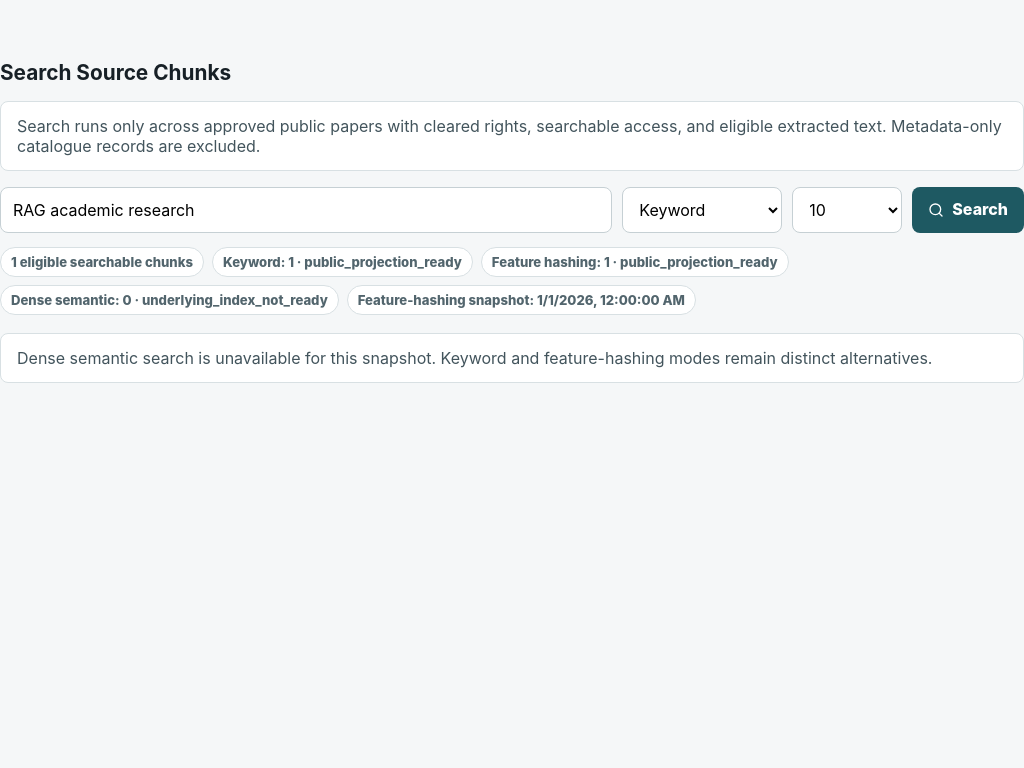
Test: evidence and responsible-AI interfaces › ignores an older Search response that completes after a newer request
Expected: the form named "Search source chunks" is shown, [0, 187, 1023, 233]
Replace the text in the field named "Search source chunks" with "older query" at (306, 210), box [0, 187, 612, 233]
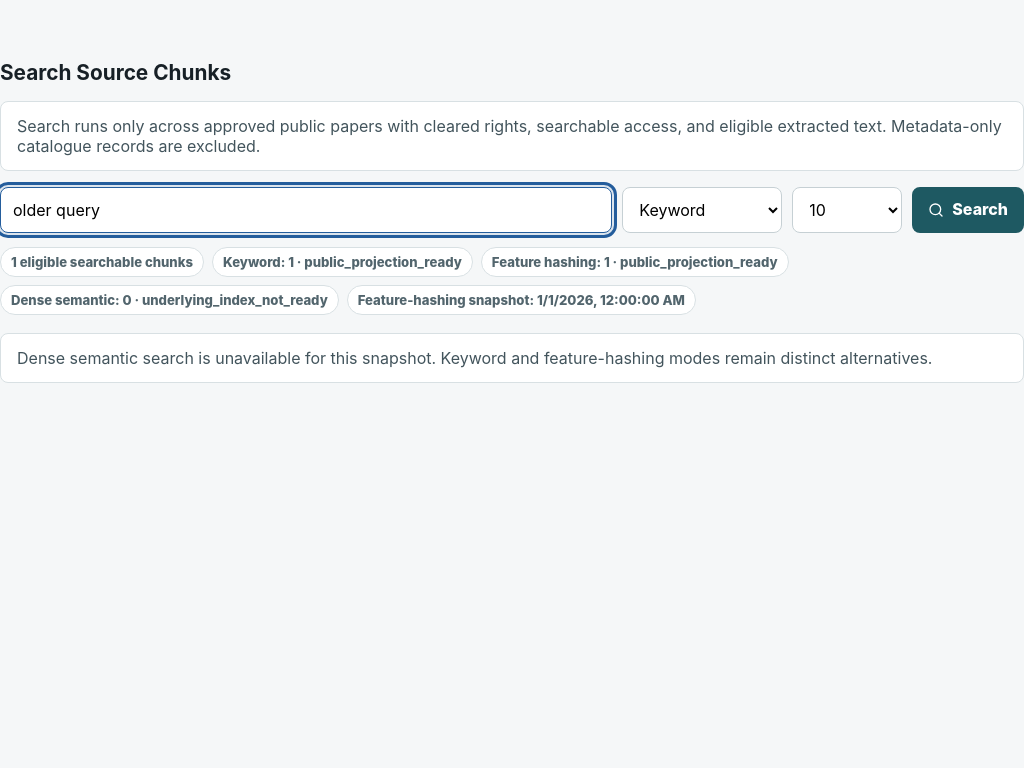
Submit the form named "Search source chunks", box [0, 187, 1023, 233]
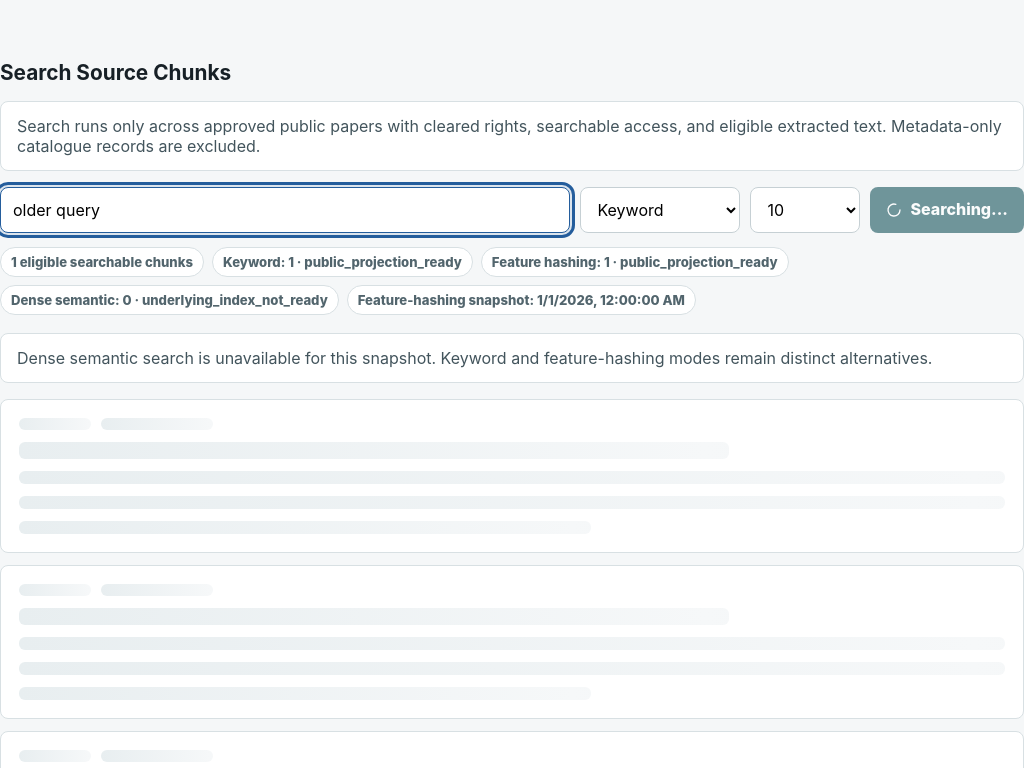
Replace the text in the field named "Search source chunks" with "newer query" at (285, 210), box [0, 187, 570, 233]
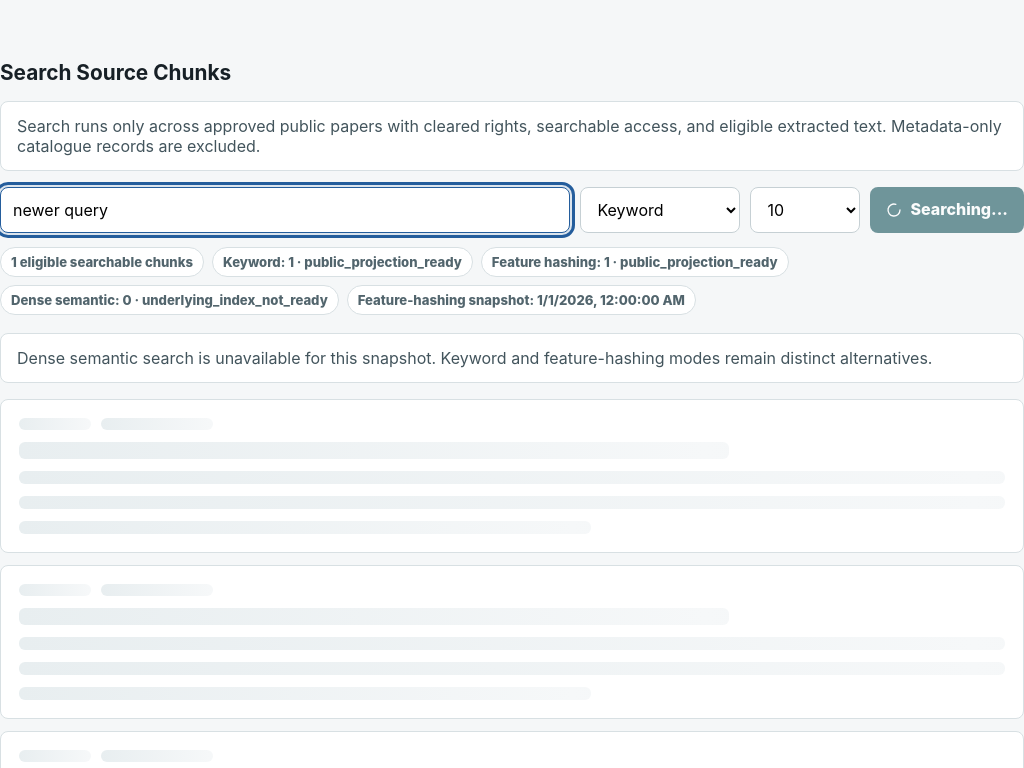
Submit the form named "Search source chunks", box [0, 187, 1023, 233]
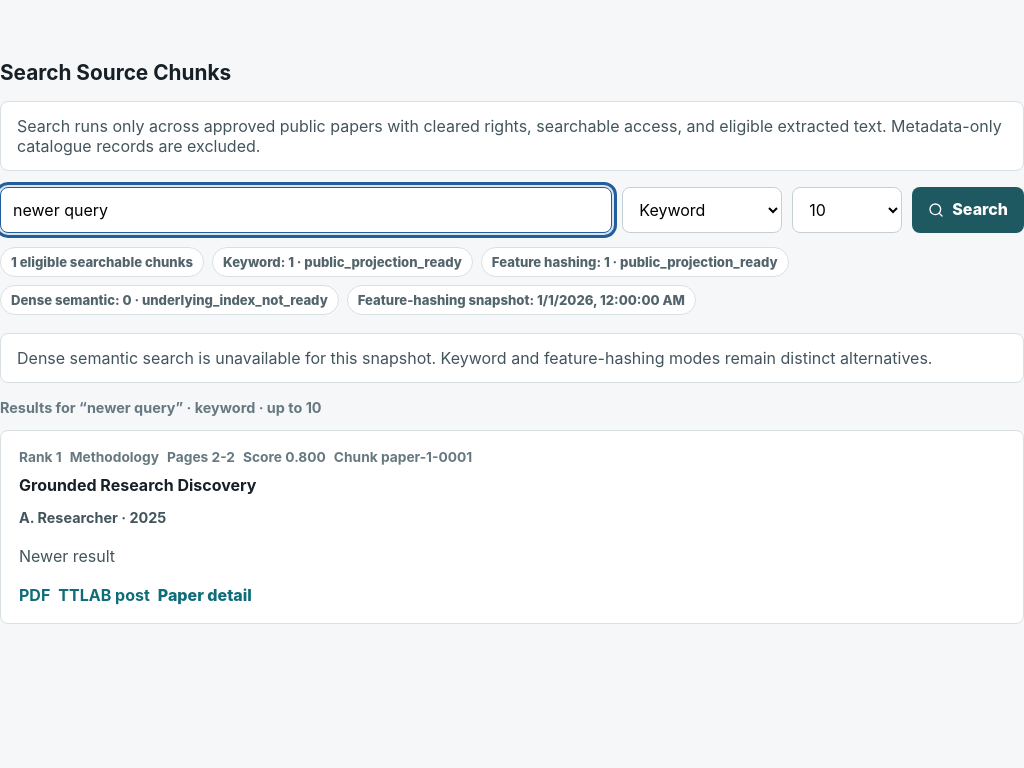
Result: the text "Newer result" is shown at [19, 546, 115, 566]
Result: the text "Results for “newer query” · keyword · up to 10" is shown at [0, 399, 322, 416]
